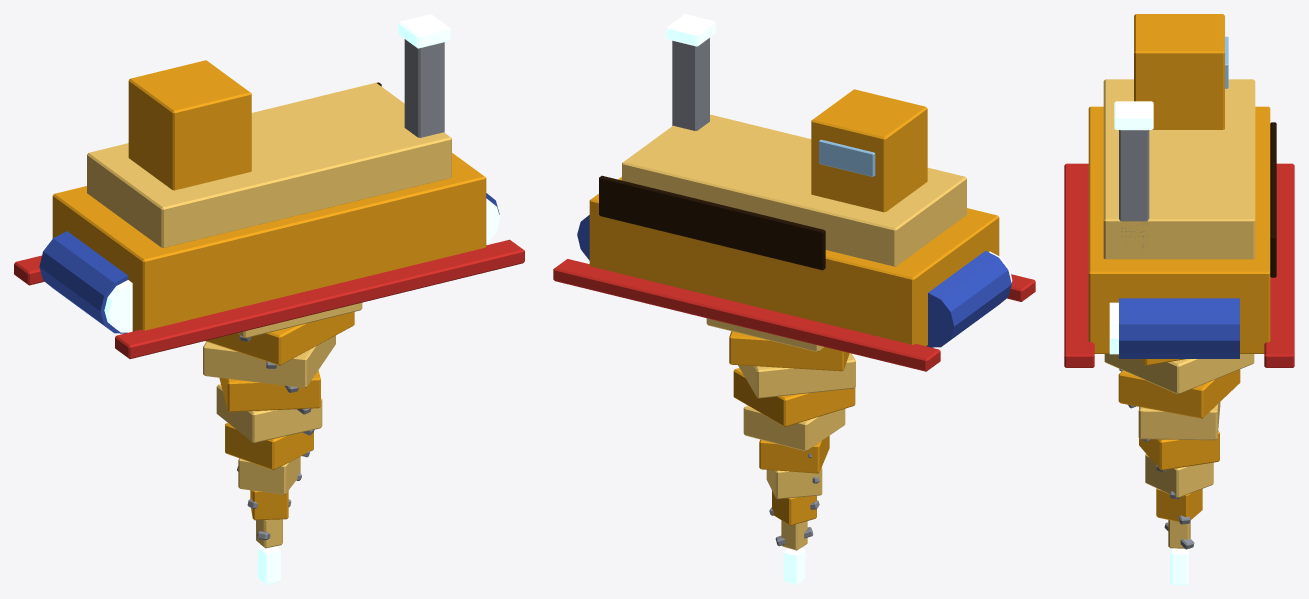
File: dig_bigone.fbx
The picture shows the model from 3 angles, left to right: view 1: azimuth 30°, elevation 25°; view 2: azimuth 150°, elevation 25°; view 3: azimuth 270°, elevation 25°; orthographic projection. The views are drawn at different scales.
Parts seen in each view (by area): view 1: Root, Drill, Engines; view 2: Root, Drill, Engines; view 3: Root, Drill, Engines.
Boxes of the visible parts, <box> form: Root: <box>14,14,524,358</box>; Drill: <box>203,302,362,584</box>; Engines: <box>39,193,499,333</box>; Root: <box>553,14,1035,371</box>; Drill: <box>706,318,855,584</box>; Engines: <box>577,215,1012,347</box>; Root: <box>1064,14,1294,367</box>; Drill: <box>1104,354,1254,584</box>; Engines: <box>1109,298,1239,358</box>.
Size of the model in its own units: 30.2 by 39.1 by 15.2.
